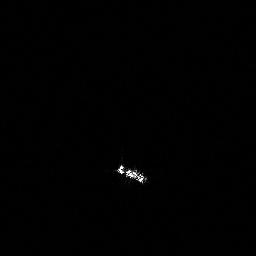ship: (113, 160, 151, 188)
